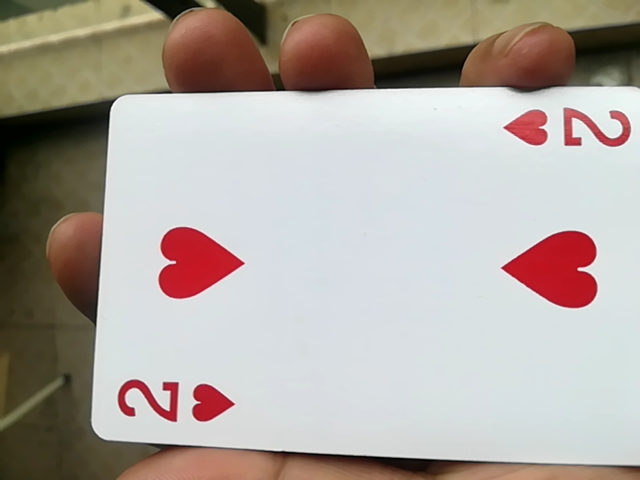hx 2: (63, 82, 639, 467)
